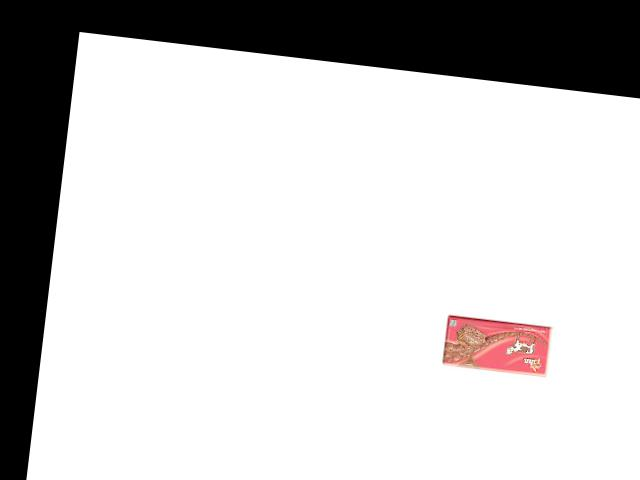chocolate: (439, 308, 556, 379)
